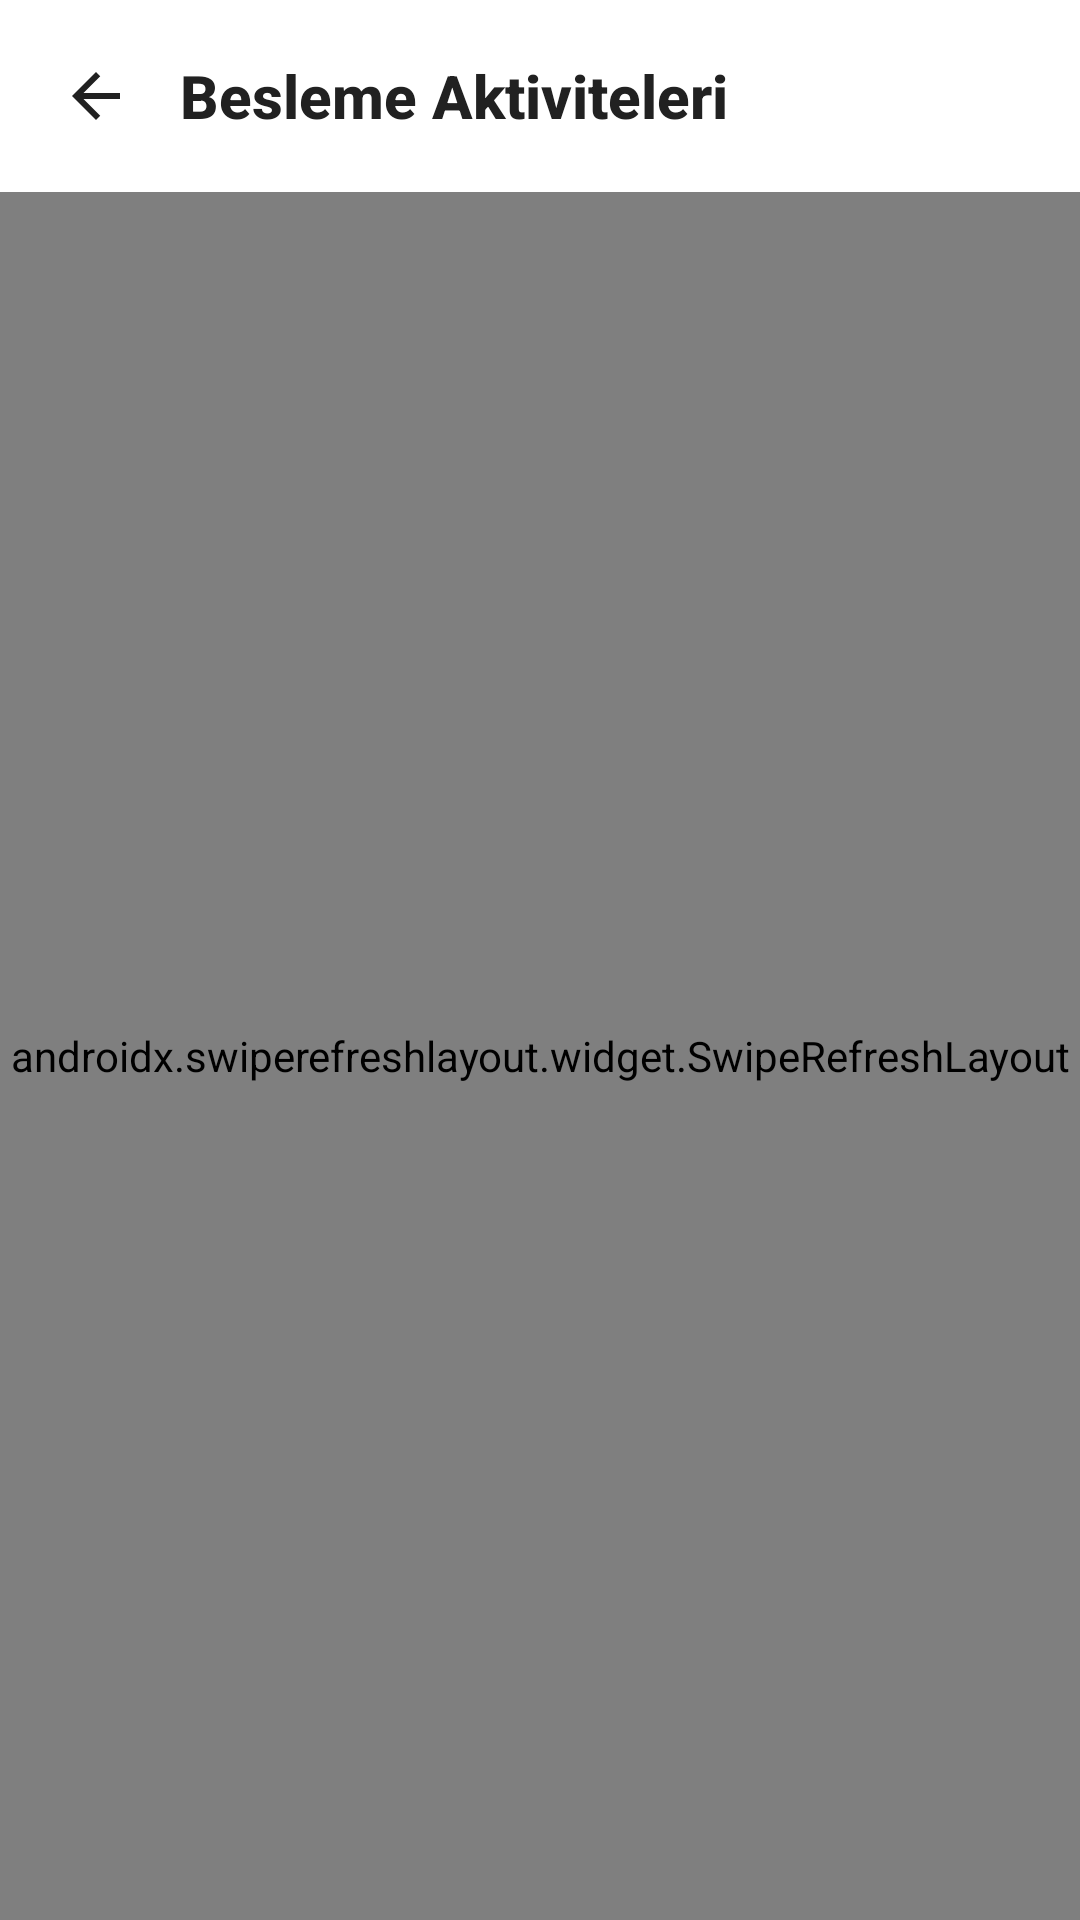

Point at icon controls on the screen. Image size 1080px x 1920px, points as (x,y).
Geri: (96,96)
